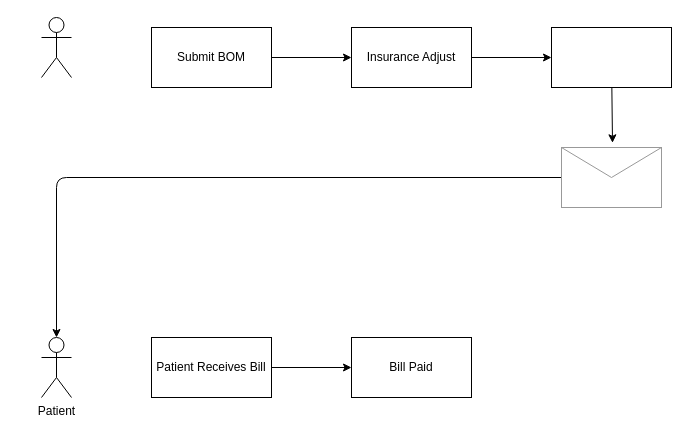
Image size: 689x436. Some labels were removed from this diagram. The centre of each missing label's shape, as x and y in pixels:
Bill Sent to Patient: the point at 611,57
Hospital Billing: the point at 56,47
